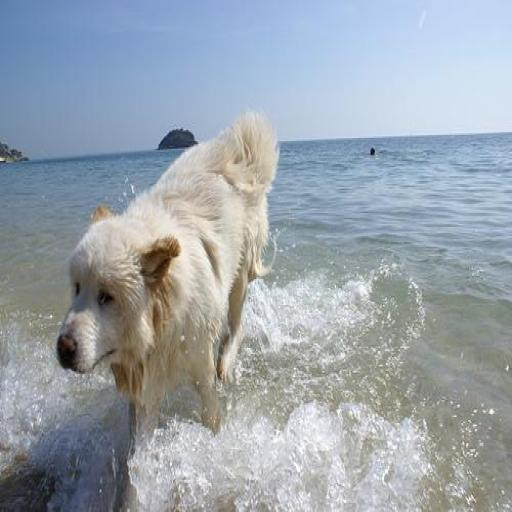dog_face: (58, 214, 170, 370)
